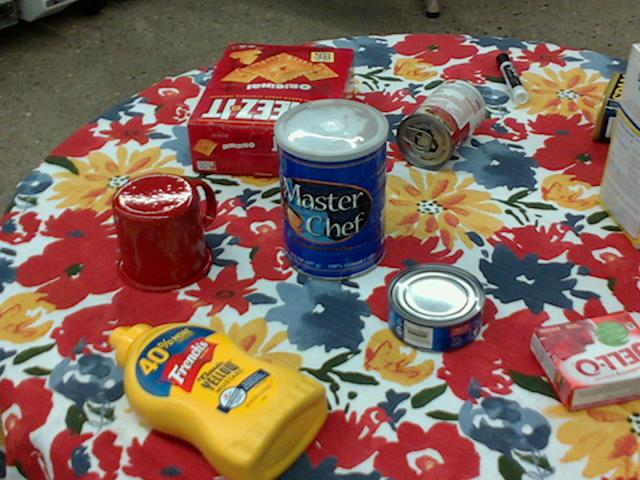cracker_box: (187, 42, 355, 179)
gelatin_box: (531, 311, 639, 410)
large_marker: (497, 52, 527, 102)
master_chef_can: (272, 98, 386, 281)
mug: (110, 172, 214, 292)
mustard_bottle: (110, 322, 328, 479)
potted_meat_can: (591, 67, 639, 145)
sugar_box: (597, 43, 639, 249)
tomato_soup_can: (396, 77, 484, 168)
tuna_fish_can: (387, 263, 486, 353)
